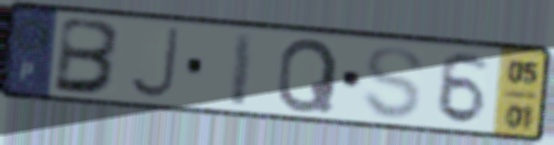6: (433, 50, 492, 127)
B: (50, 14, 125, 97)
I: (226, 29, 258, 110)
J: (125, 24, 183, 100)
Q: (273, 36, 341, 115)
S: (359, 43, 427, 123)
